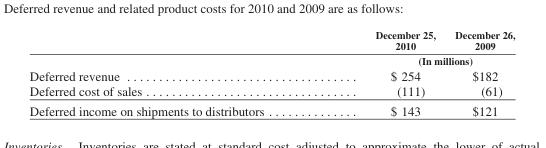table: (28, 28, 514, 117)
table column: (28, 28, 319, 117), (319, 28, 444, 117), (444, 28, 514, 117)
table column header: (28, 28, 514, 67)
table row: (28, 28, 514, 52), (28, 83, 514, 100), (28, 100, 514, 117), (28, 67, 514, 83), (28, 52, 514, 67)
table spanning cell: (319, 52, 514, 67)
